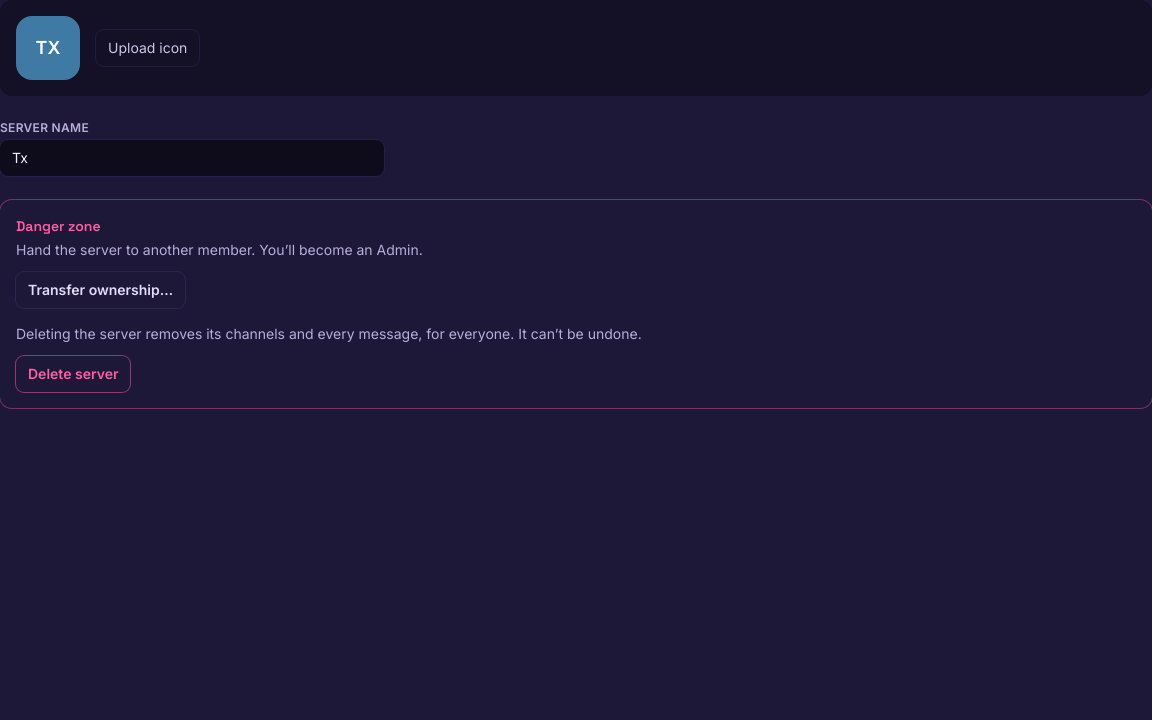
Test: the server's refusal shows in the dialog
Click the button "Transfer ownership…". click: click(101, 290)
box: [16, 272, 185, 308]
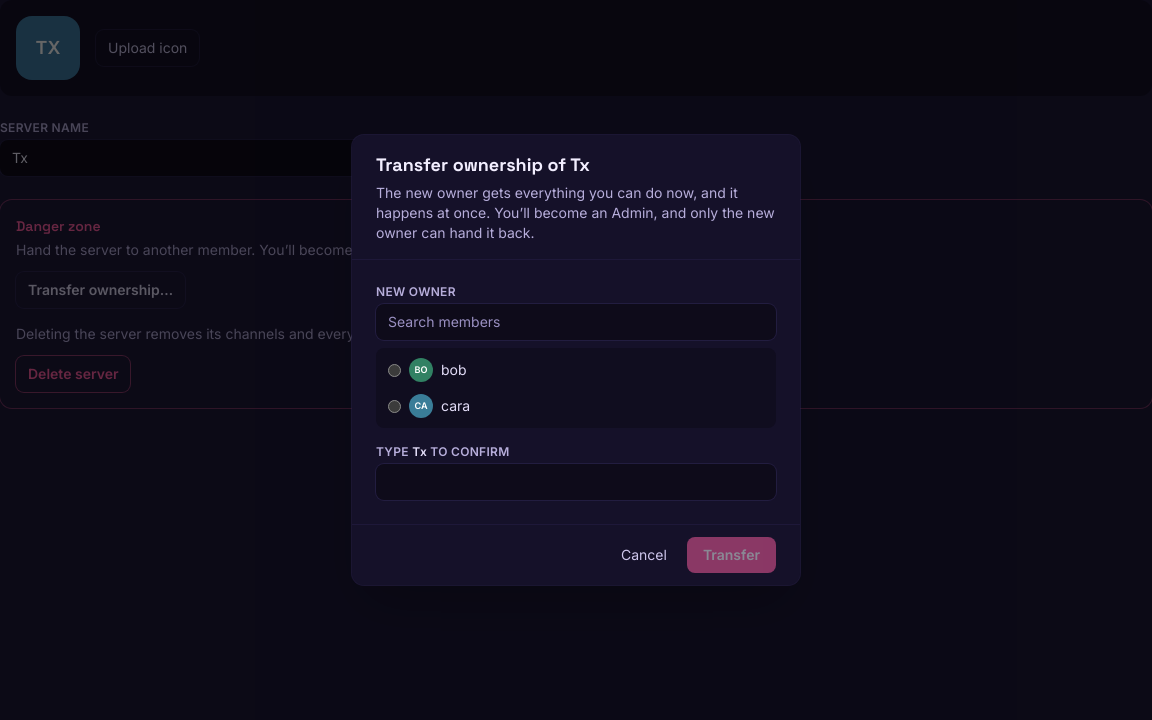
Click the radio button labelled "cara". click: click(394, 406)
box: [388, 400, 401, 412]
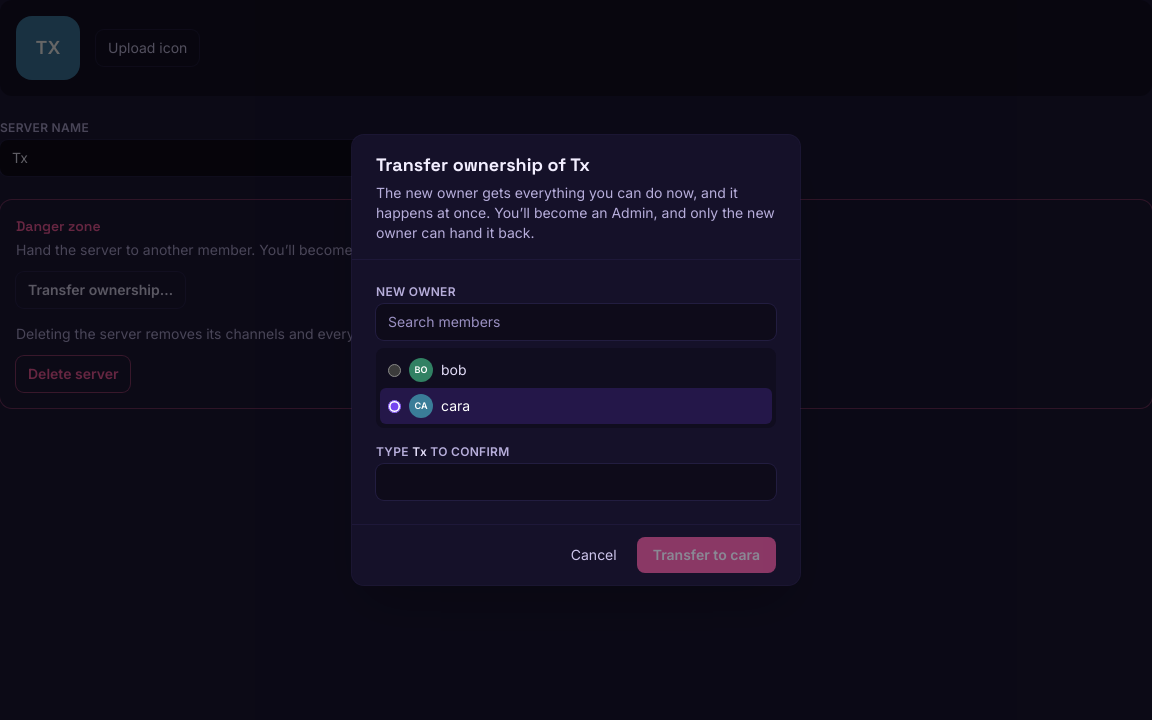
Type "Tx" into the field labelled "Type Tx to confirm". click: (576, 482)
box: [376, 464, 776, 500]
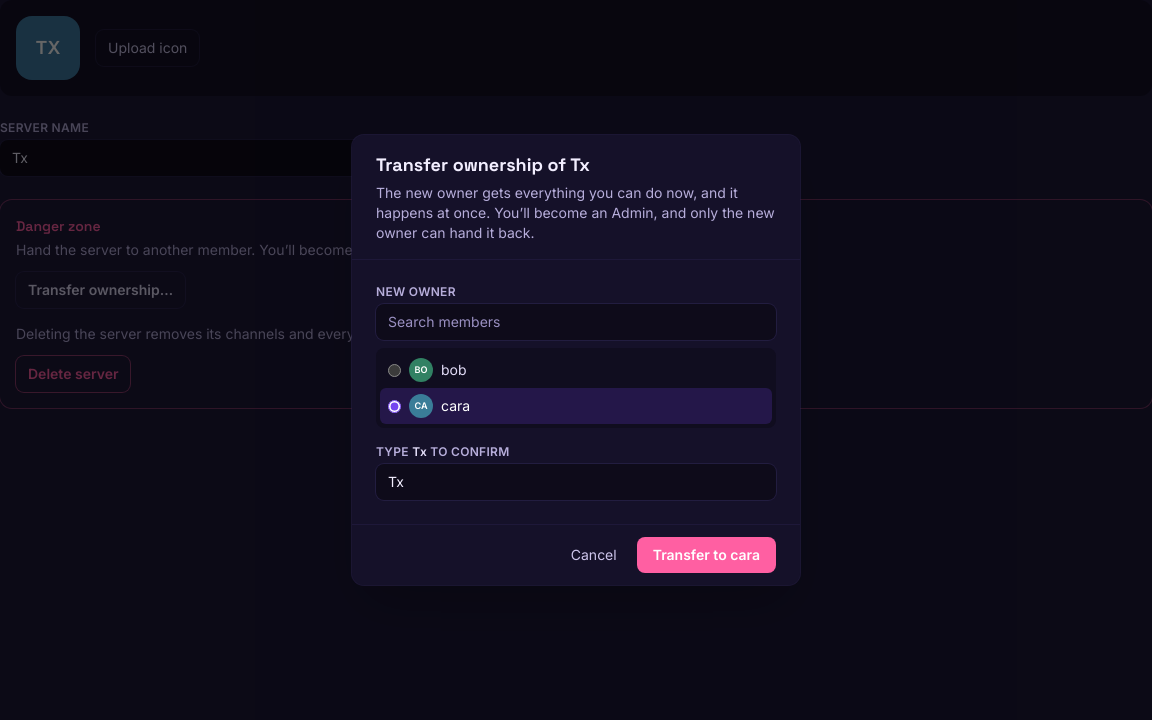
Click the button "Transfer to cara". click: click(706, 555)
box: [637, 537, 776, 573]
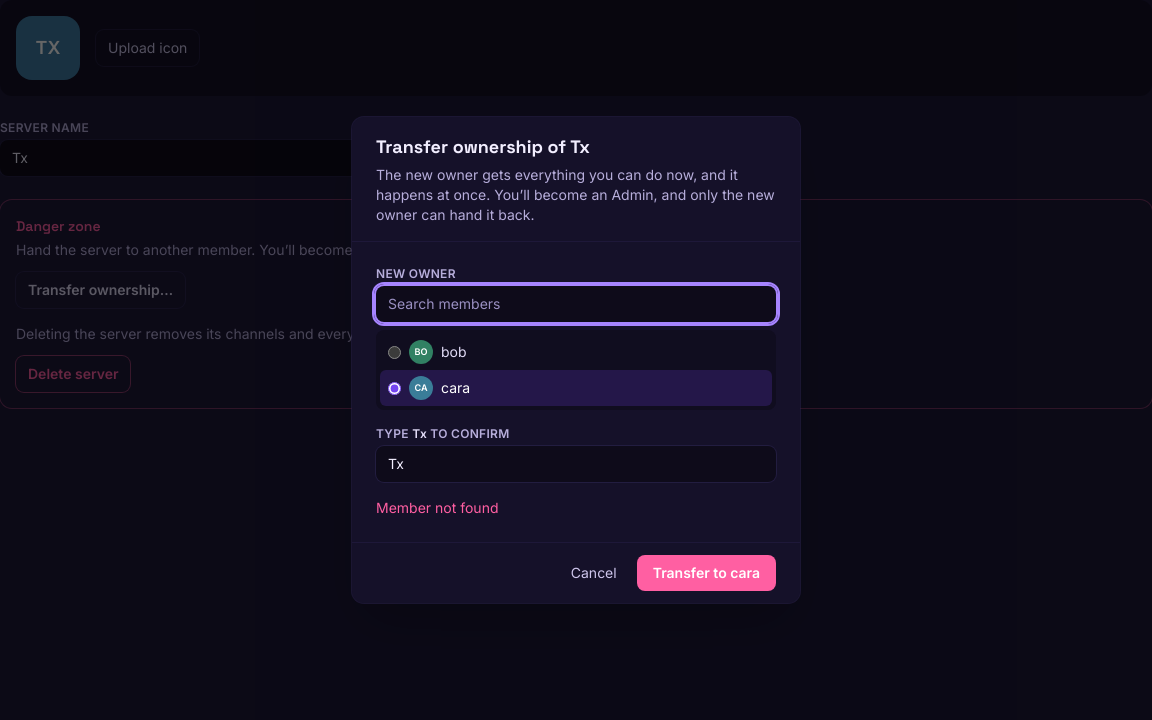
Expected: the message reads "Member not found", [376, 499, 498, 516]
